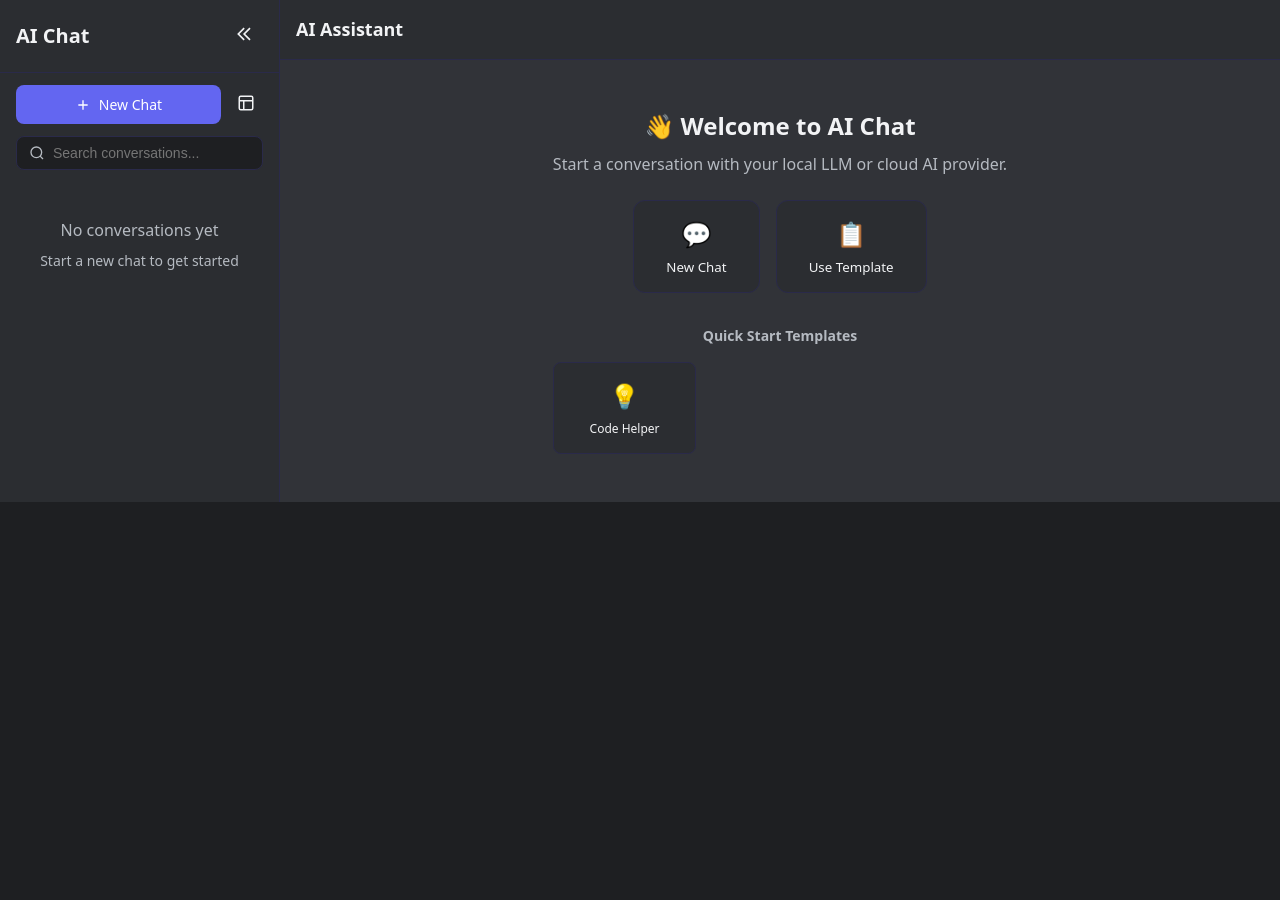
Test: AIChat Component (FEAT-005) › Templates Modal › should open templates modal when template button clicked
The width and height of the screenshot is (1280, 900).
Click the "Use Template" button
Click the text "Use Template" at (851, 267), box [809,258,894,276]
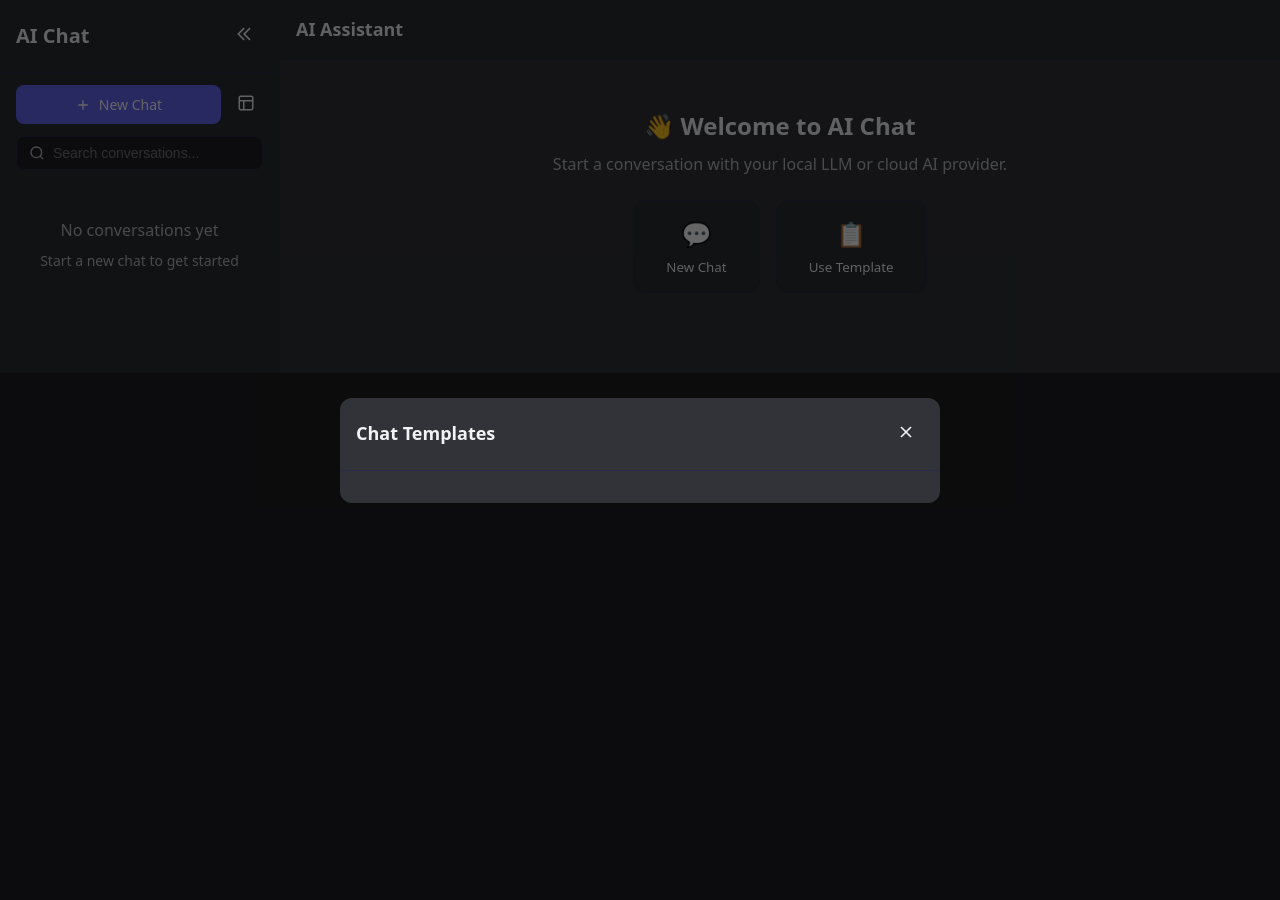
Check: the heading "Chat Templates" is shown, box [356,420,495,447]
